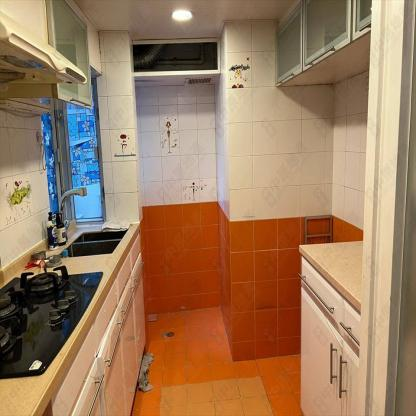Cupboard: (53, 234, 145, 415), (297, 258, 360, 415), (276, 0, 372, 87)
Exhaust Hood: (0, 6, 85, 92)
Faucet: (55, 183, 88, 218)
Sink: (60, 231, 127, 256)
Stove: (1, 264, 104, 376)
